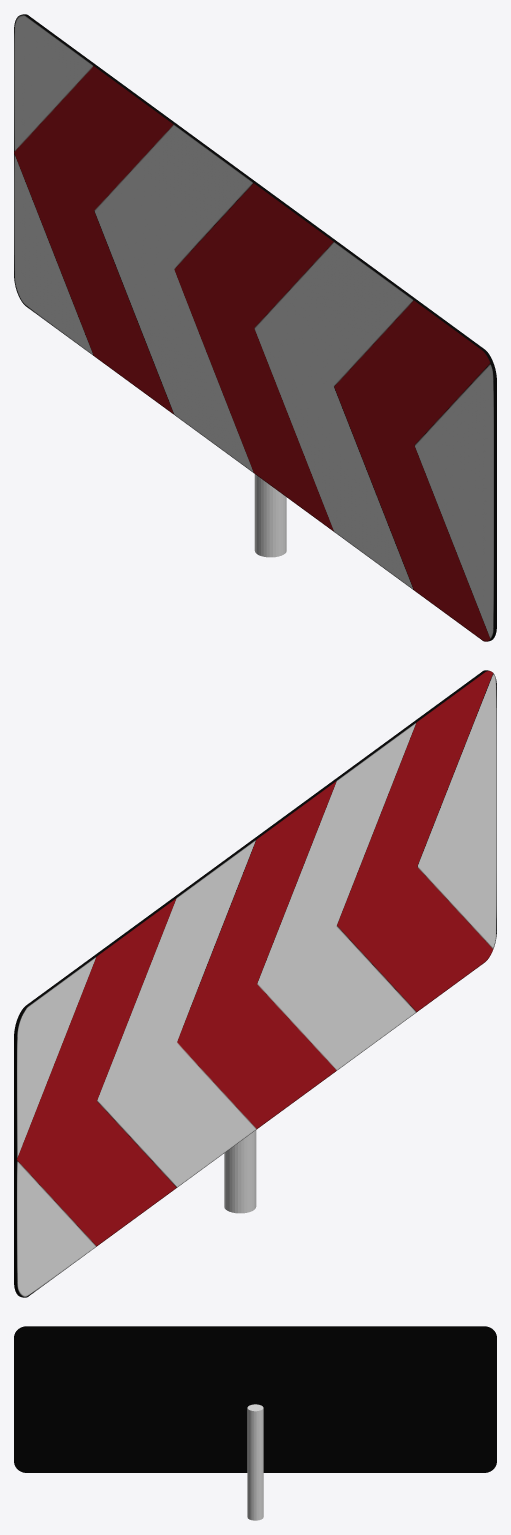
Rendered from sharp_turn_left_sign.dae.
3 views of the same model, one above another, from view 1: azimuth 30°, elevation 25°; view 2: azimuth 150°, elevation 25°; view 3: azimuth 270°, elevation 25° (orthographic). The views are drawn at different scales.
Visible parts, largest first — view 1: path14346, Cylinder; view 2: path14346, Cylinder; view 3: path14346, Cylinder.
Boxes of the visible parts, x1,y1,x2,y2 form: path14346: [14, 14, 496, 641]; Cylinder: [254, 474, 286, 557]; path14346: [14, 670, 496, 1297]; Cylinder: [224, 1130, 256, 1213]; path14346: [14, 1326, 496, 1472]; Cylinder: [247, 1404, 263, 1520].
Bounding box in the file's own units: 0.011 × 0.3 × 0.128.
Materials: 3 (2 with a texture image).
